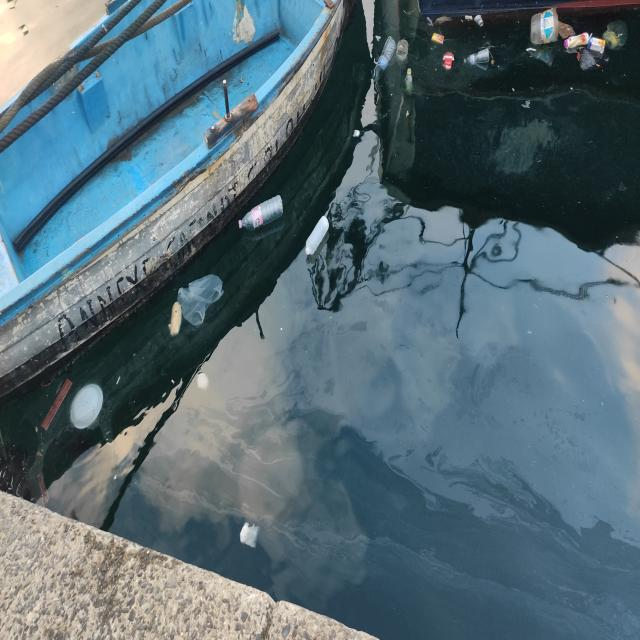Juice box: (586, 32, 606, 54)
Plastic: (69, 382, 104, 431), (239, 520, 261, 550), (520, 99, 532, 109), (426, 16, 434, 27), (374, 34, 382, 42), (464, 15, 473, 22), (525, 47, 537, 52)
Plastic bag: (177, 272, 225, 328), (602, 18, 629, 52), (578, 47, 610, 73)
Plastic bottle: (238, 193, 284, 232), (372, 35, 397, 82), (529, 7, 559, 45), (305, 214, 330, 256), (463, 47, 490, 66), (563, 31, 590, 49), (404, 67, 414, 97), (396, 38, 409, 61)
Plastic cup: (474, 14, 484, 27), (352, 128, 361, 138)
Plastic packaging: (442, 50, 455, 70)
Wood: (40, 377, 73, 432)
